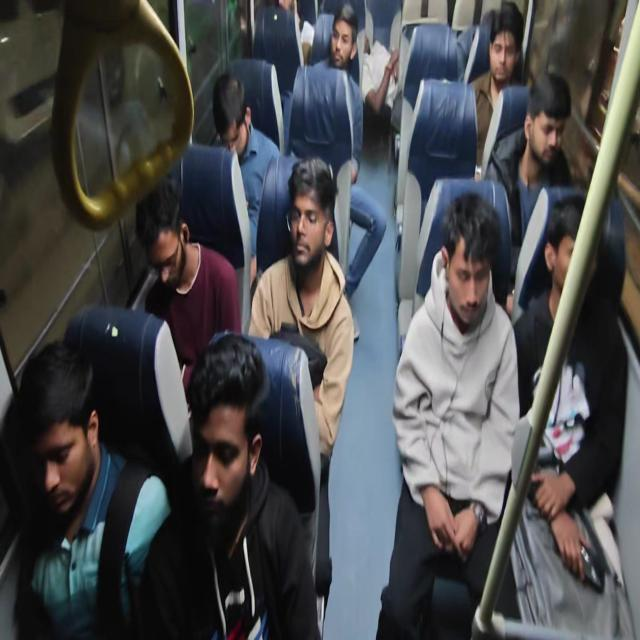person: (15, 354, 112, 518), (190, 336, 276, 512), (437, 192, 501, 338), (281, 162, 344, 285), (544, 188, 605, 304), (131, 186, 192, 300), (209, 68, 256, 164), (525, 74, 568, 161), (490, 3, 524, 95), (329, 4, 358, 72)
